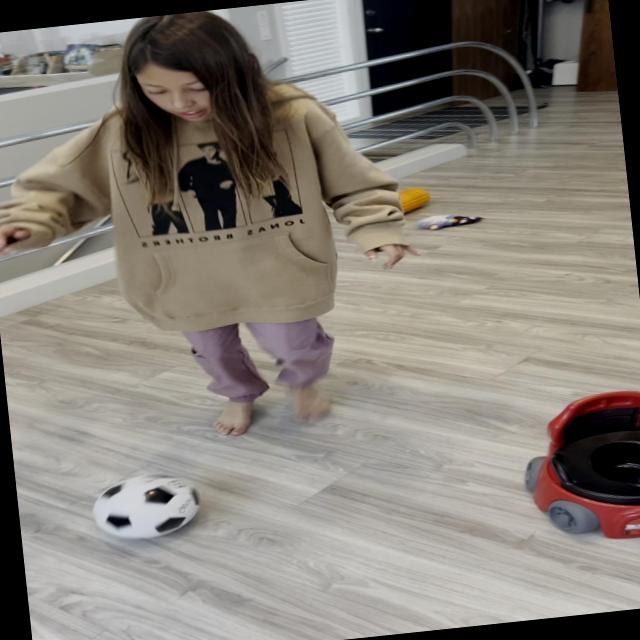Soccer Ball: (86, 470, 204, 544)
